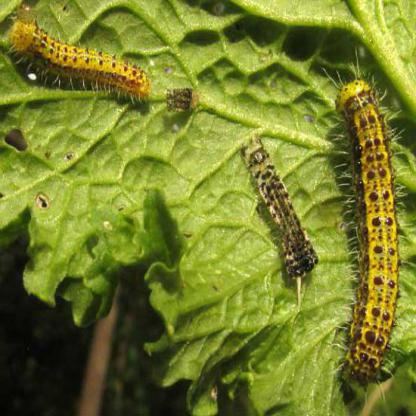pieris: (336, 79, 406, 383), (7, 19, 153, 105), (239, 132, 320, 281)
